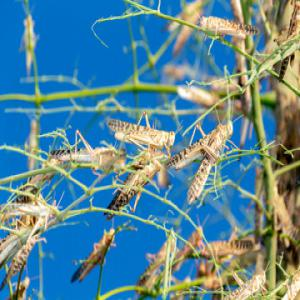locust: (103, 103, 179, 158), (72, 216, 130, 281), (200, 1, 264, 56), (192, 215, 255, 266)
